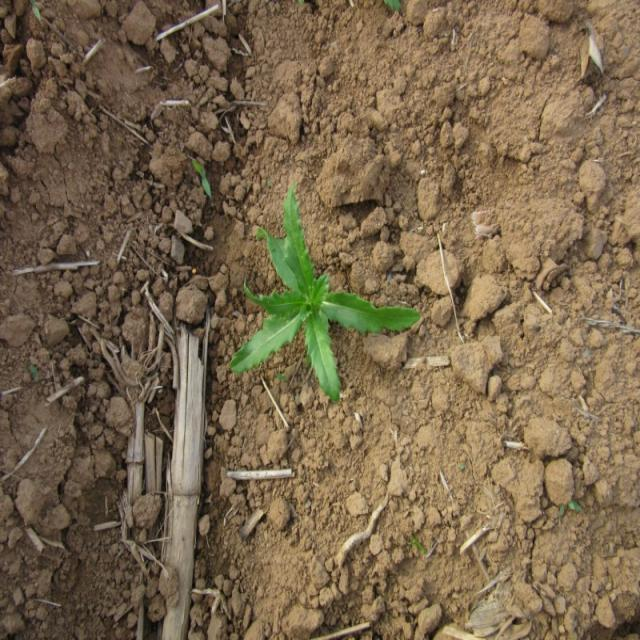cs: (227, 180, 422, 408)
